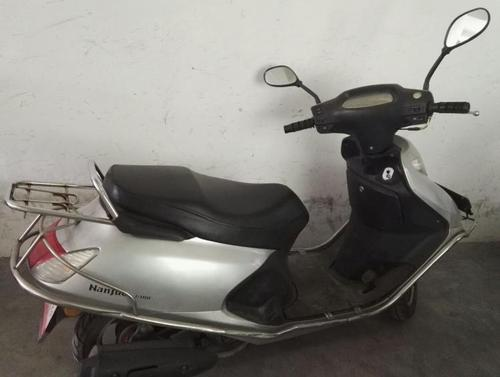motor: (43, 65, 477, 371)
